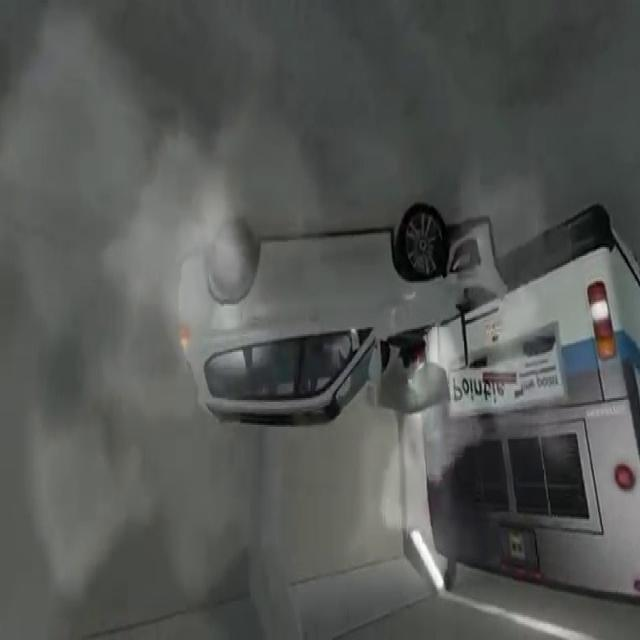severe: (173, 191, 640, 614)
